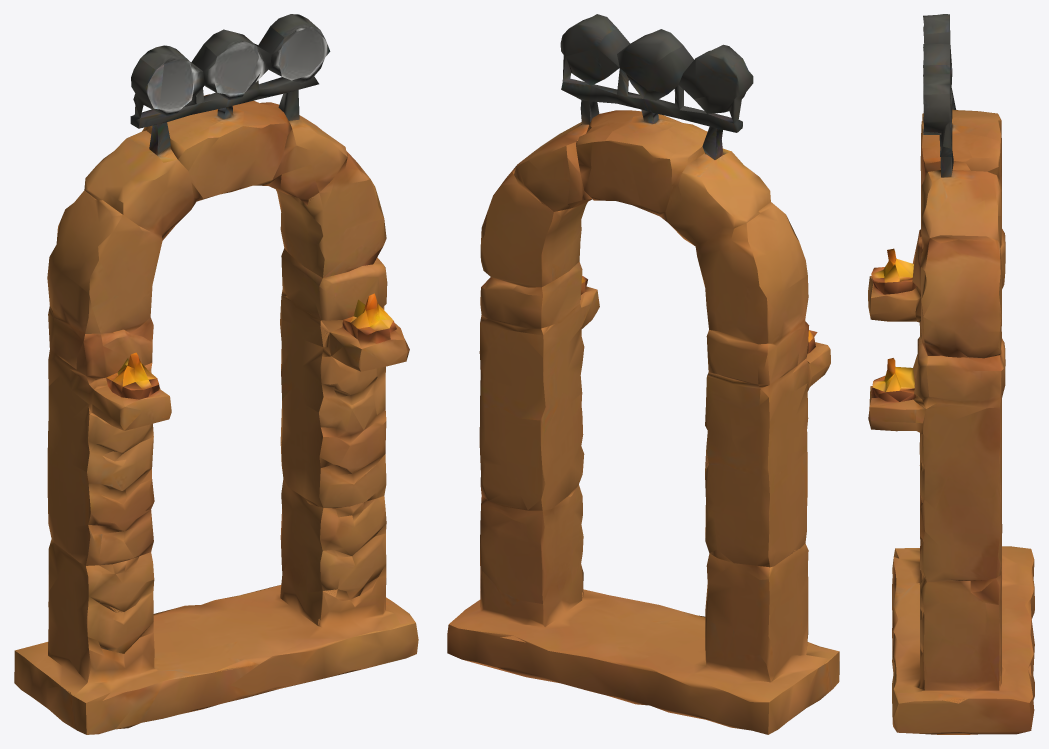
File: desierto_torre.glb
3 renders of one model, left to right at view 1: azimuth 30°, elevation 25°; view 2: azimuth 150°, elevation 25°; view 3: azimuth 270°, elevation 25°, orthographic. The views are drawn at different scales.
Visible parts, largest first — view 1: tripo_node_305d1d8c-f671-4182-a810-5a03c754e4ce; view 2: tripo_node_305d1d8c-f671-4182-a810-5a03c754e4ce; view 3: tripo_node_305d1d8c-f671-4182-a810-5a03c754e4ce.
Part boxes in pixels (x1=…): tripo_node_305d1d8c-f671-4182-a810-5a03c754e4ce: x1=14, y1=14, x2=418, y2=734; tripo_node_305d1d8c-f671-4182-a810-5a03c754e4ce: x1=447, y1=14, x2=839, y2=734; tripo_node_305d1d8c-f671-4182-a810-5a03c754e4ce: x1=868, y1=14, x2=1034, y2=734.
Size of the model in its own units: 0.5458 by 1 by 0.2466.
1 material, 1 textured.
